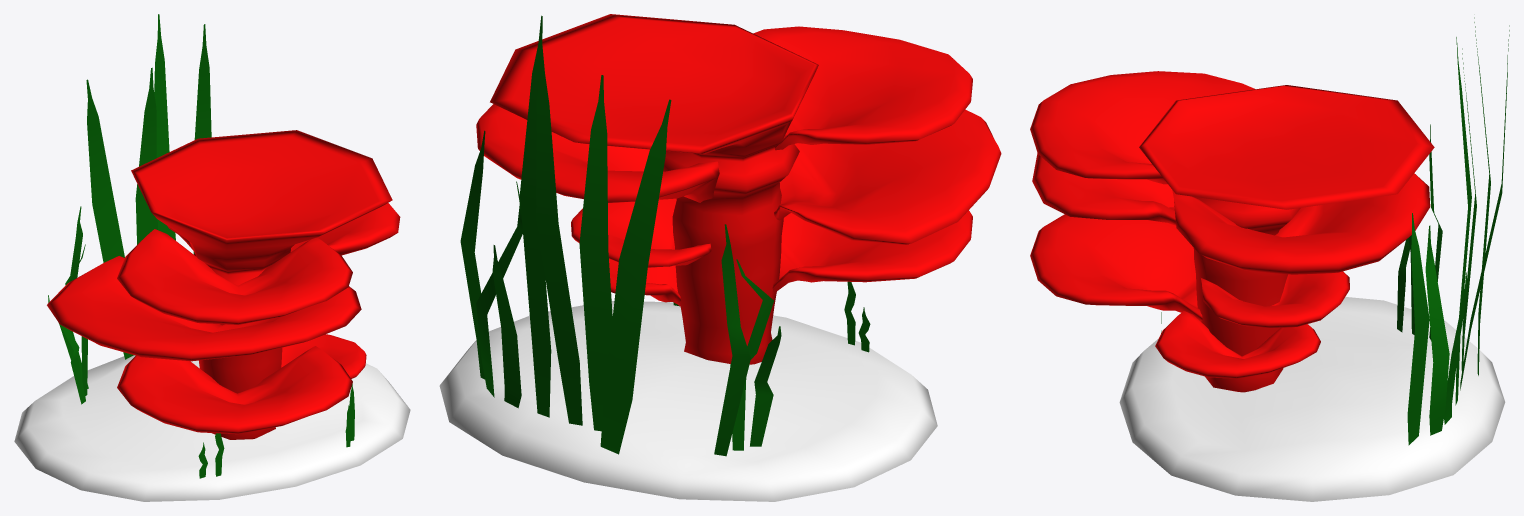
The model's file is towercoral_low.fbx.
3 renders of one model, left to right at view 1: azimuth 30°, elevation 25°; view 2: azimuth 150°, elevation 25°; view 3: azimuth 270°, elevation 25°, orthographic. The views are drawn at different scales.
Visible parts, largest first — view 1: tower_coral_low; view 2: tower_coral_low; view 3: tower_coral_low.
Boxes of the visible parts, <box> form: tower_coral_low: <box>14,14,410,501</box>; tower_coral_low: <box>439,14,1001,501</box>; tower_coral_low: <box>1030,17,1509,501</box>.
Size of the model in its own units: 106 by 96.57 by 106.
